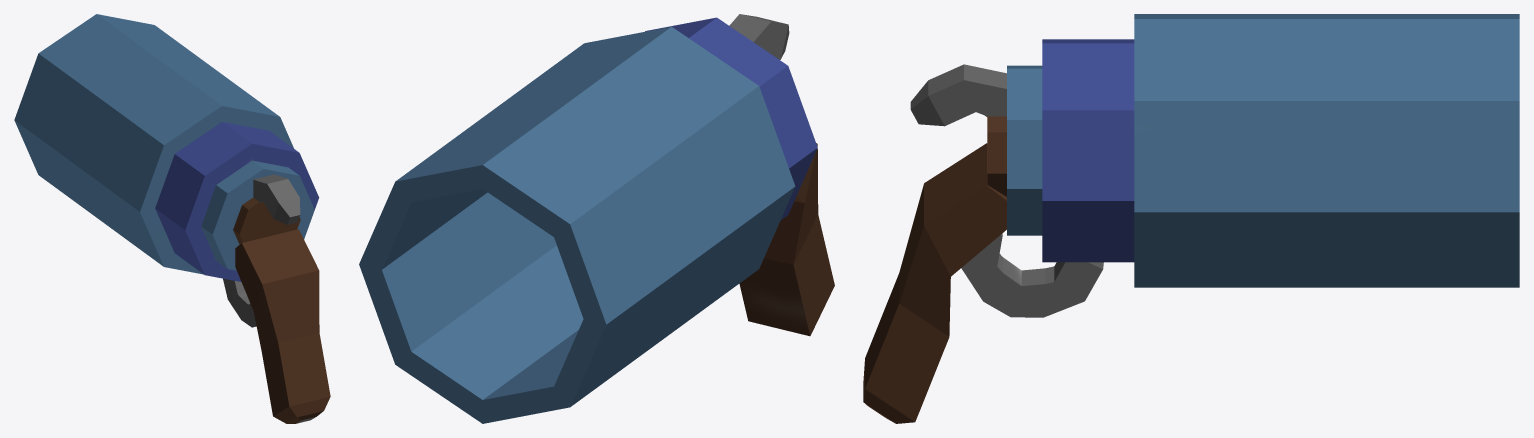
The model's file is Gun.fbx.
3 views of the same model, side by side, from view 1: azimuth 30°, elevation 25°; view 2: azimuth 150°, elevation 25°; view 3: azimuth 270°, elevation 25° (orthographic). The views are drawn at different scales.
Parts seen in each view (by area): view 1: Cylinder; view 2: Cylinder; view 3: Cylinder.
Boxes of the visible parts, x1=… form: Cylinder: x1=14, y1=14, x2=330, y2=423; Cylinder: x1=359, y1=14, x2=834, y2=423; Cylinder: x1=863, y1=14, x2=1519, y2=423.
Size of the model in its own units: 245 by 367 by 553.
Materials: 1 (1 with a texture image).
